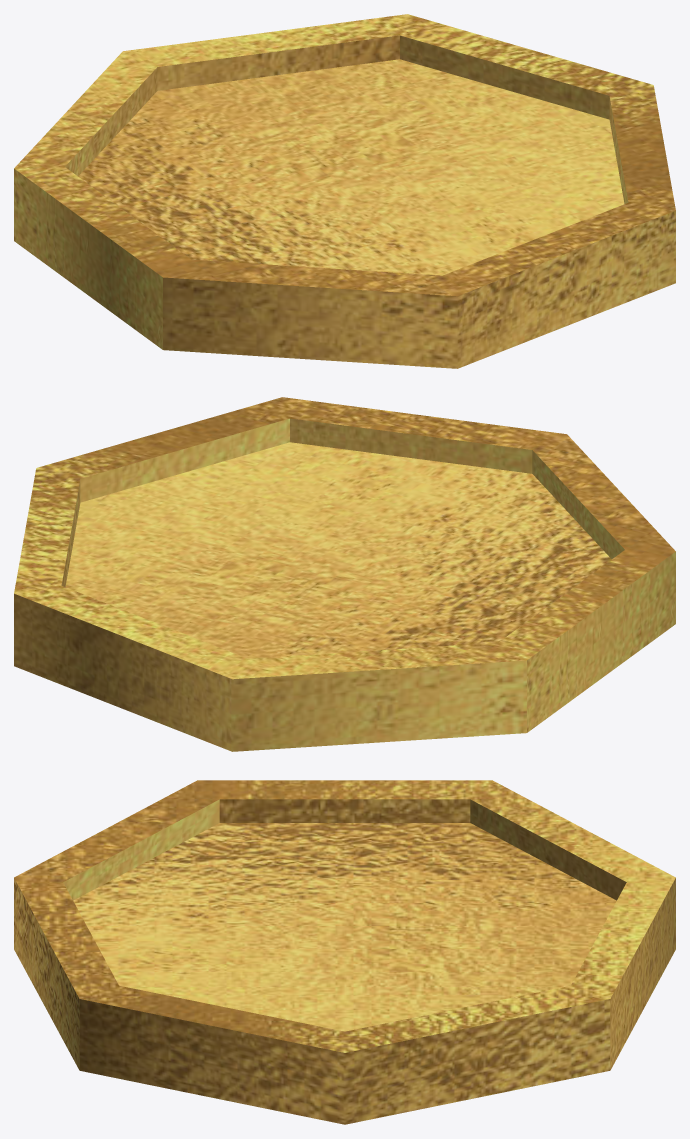
File: Coin.fbx
3 views of the same model, one above another, from view 1: azimuth 30°, elevation 25°; view 2: azimuth 150°, elevation 25°; view 3: azimuth 270°, elevation 25° (orthographic).
Visible parts, largest first — view 1: Cylinder001; view 2: Cylinder001; view 3: Cylinder001.
Boxes of the visible parts, left/top/right/bottom form: Cylinder001: left=14, top=14, right=675, bottom=368; Cylinder001: left=14, top=397, right=675, bottom=751; Cylinder001: left=14, top=780, right=675, bottom=1124.
Size of the model in its own units: 37.46 by 38.42 by 4.6.
Materials: 1 (1 with a texture image).
